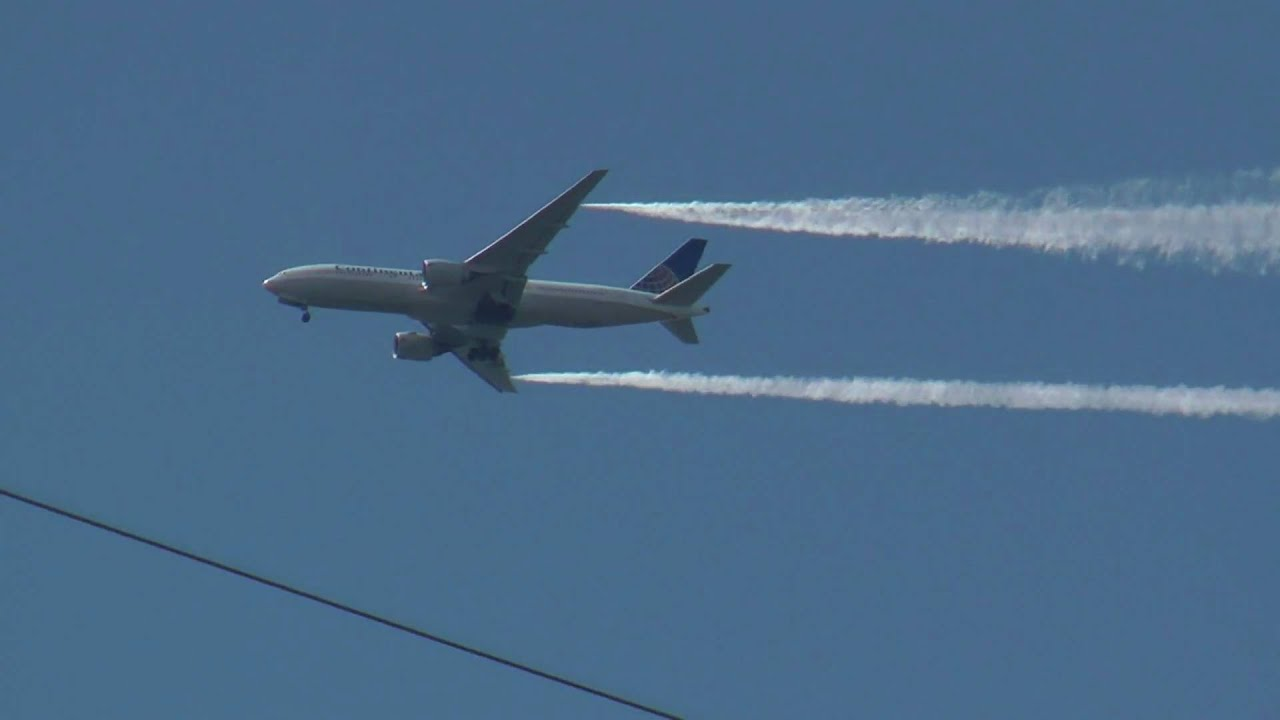plane: (262, 166, 731, 397)
